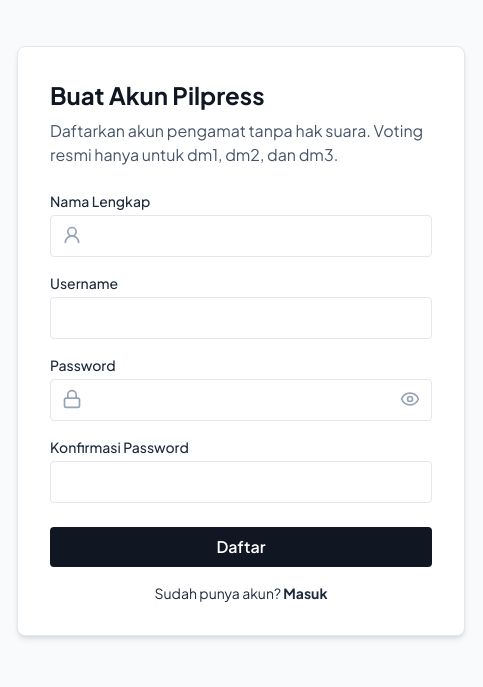
RegisterPage › menolak pendaftaran jika konfirmasi password tidak cocok
Type "Pemilih Satu" into the field labelled "Nama Lengkap".
click(241, 236); type("Pemilih Satu")  # box x1=50 y1=215 x2=432 y2=257
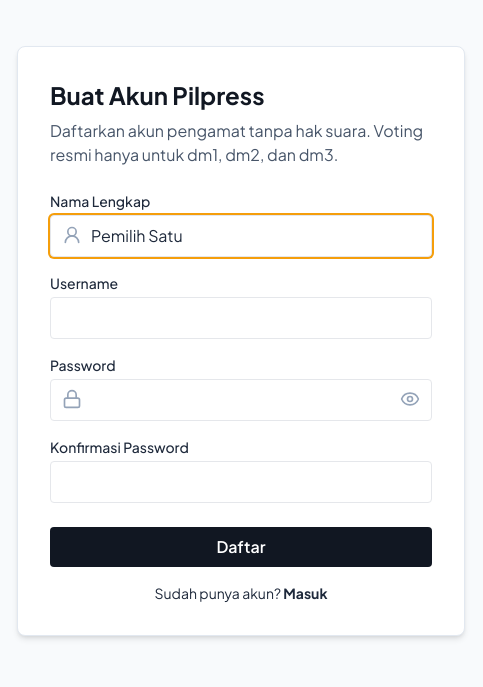
Type "pemilih1" into the field labelled "Username".
click(241, 318); type("pemilih1")  # box x1=50 y1=297 x2=432 y2=339
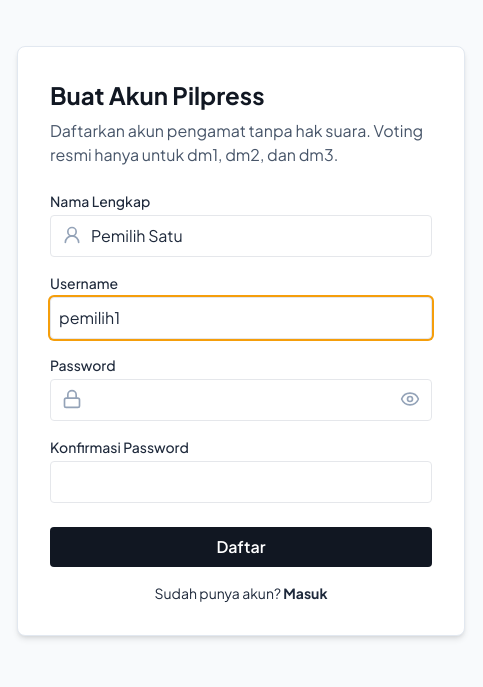
Type "rahasia123" into the password field labelled "Password".
click(241, 400); type("rahasia123")  # box x1=50 y1=379 x2=432 y2=421
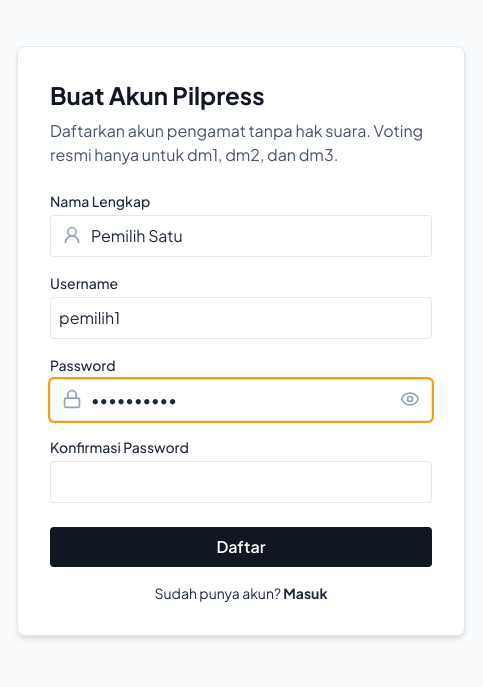
Type "rahasia456" into the password field labelled "Konfirmasi Password".
click(241, 482); type("rahasia456")  # box x1=50 y1=461 x2=432 y2=503
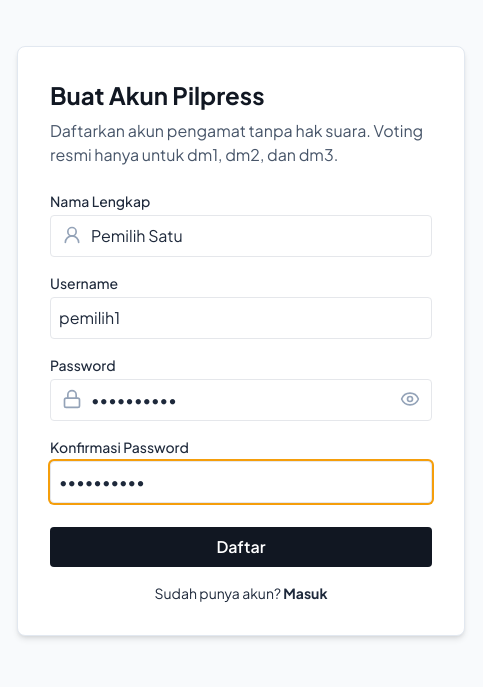
Click the button "Daftar".
click(241, 547)  # box x1=50 y1=527 x2=432 y2=567
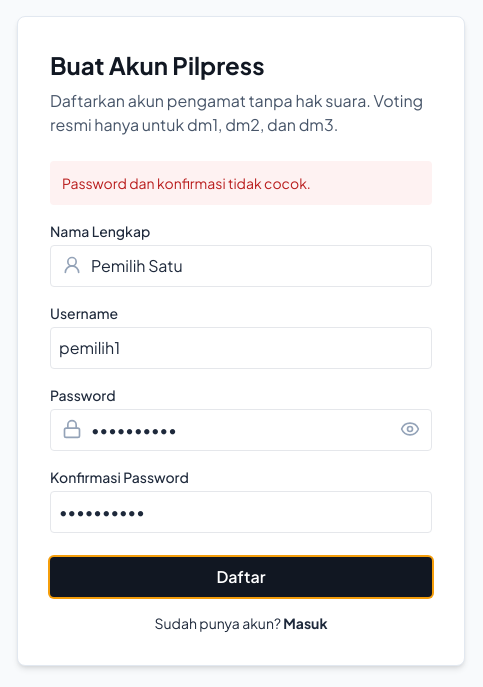
Expected: the text "Password dan konfirmasi tidak cocok." is shown, x1=50 y1=161 x2=432 y2=205
